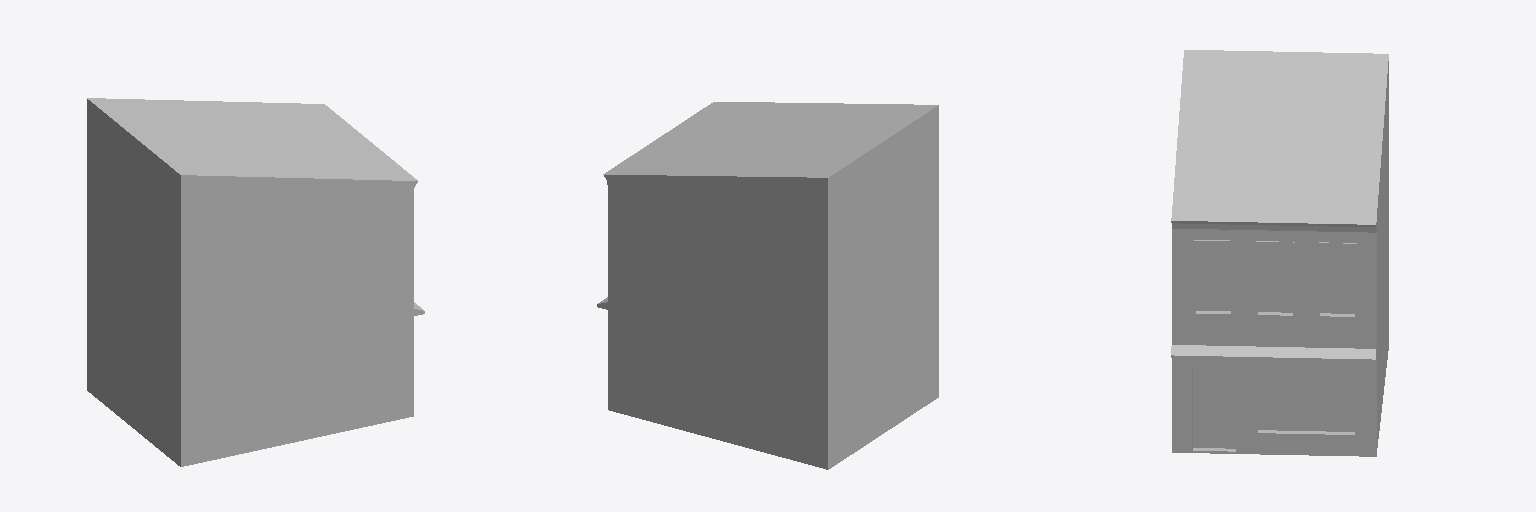
The model's file is house7.obj.
The picture shows the model from 3 angles: view 1: azimuth 30°, elevation 25°; view 2: azimuth 150°, elevation 25°; view 3: azimuth 270°, elevation 25°; orthographic projection.
Parts seen in each view (by area): view 1: houseShop_null_; view 2: houseShop_null_; view 3: houseShop_null_.
Part boxes in pixels (bbox=[...]): houseShop_null_: bbox=[87, 98, 424, 466]; houseShop_null_: bbox=[597, 102, 938, 469]; houseShop_null_: bbox=[1171, 50, 1388, 456].
Size of the model in its own units: 44.99 by 50.94 by 34.45.